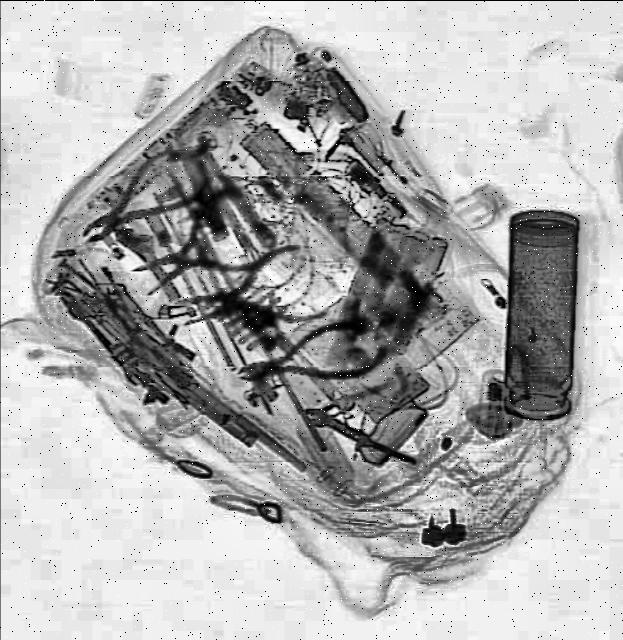Pliers: (114, 178, 294, 320), (64, 138, 218, 266), (164, 238, 330, 356), (231, 312, 390, 406)
